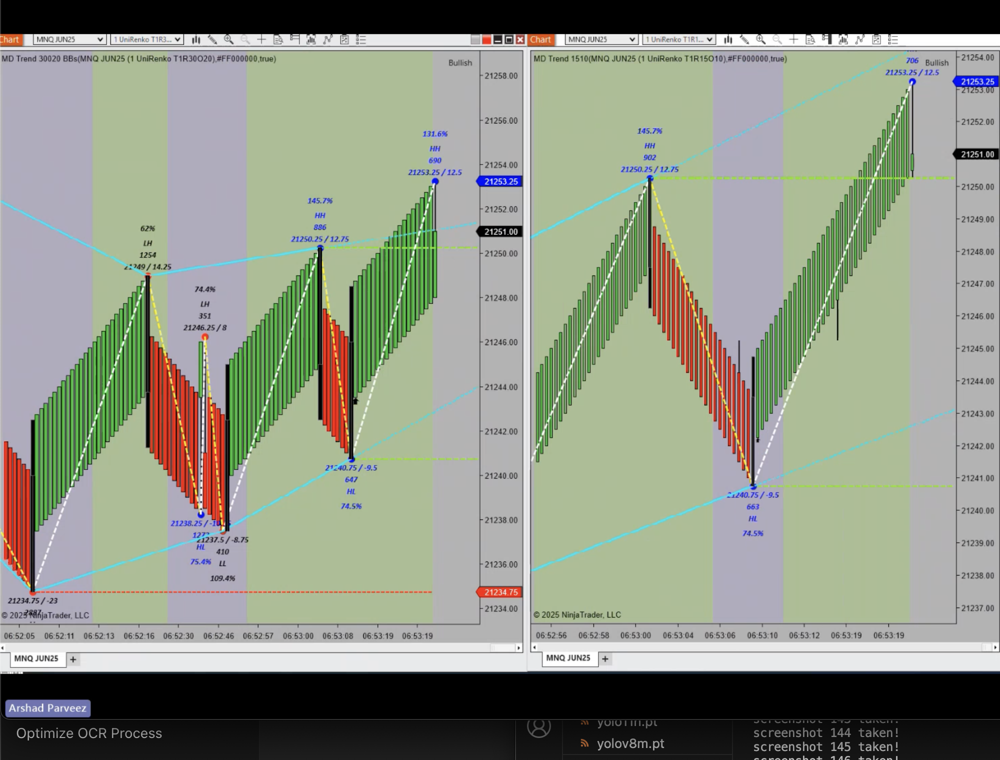HH: (307, 206, 340, 227), (424, 139, 451, 163), (635, 140, 664, 158)
HL: (339, 483, 370, 499), (190, 538, 210, 555), (743, 510, 764, 526)
LH: (193, 296, 217, 313), (137, 235, 162, 251)
LL: (211, 556, 237, 576)
